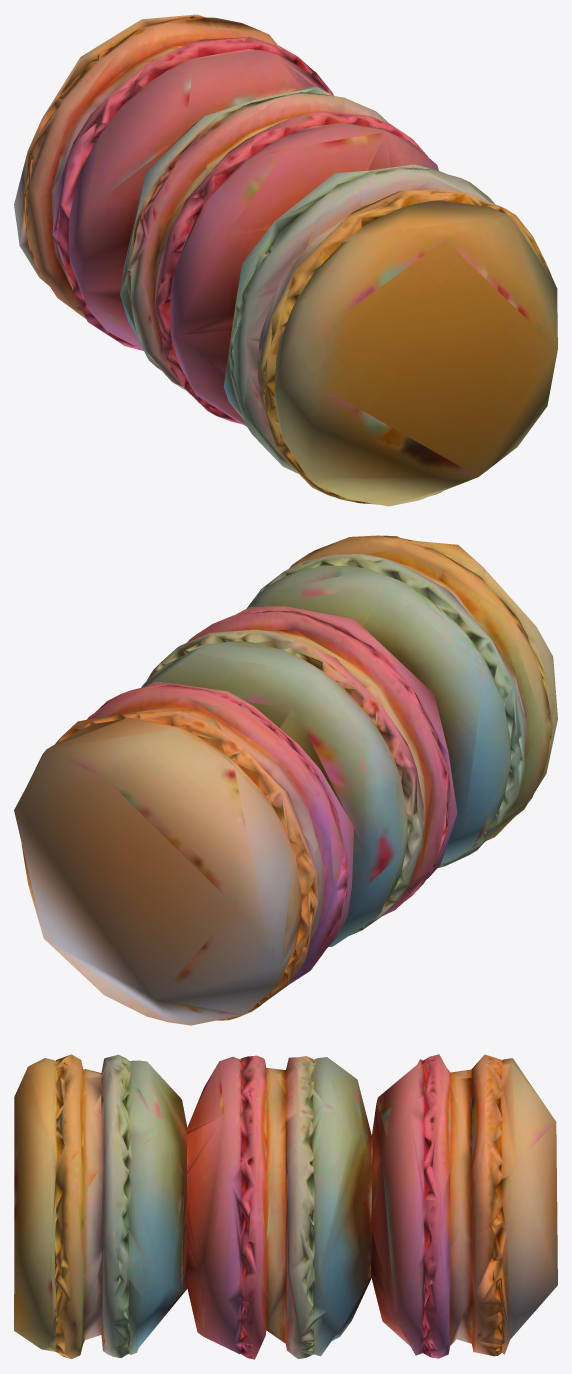
3 renders of one model, top to bottom at view 1: azimuth 30°, elevation 25°; view 2: azimuth 150°, elevation 25°; view 3: azimuth 270°, elevation 25°, orthographic. The views are drawn at different scales.
Parts seen in each view (by area): view 1: material; view 2: material; view 3: material.
Part boxes in pixels (x1,y1,x2,y2): material: (14, 14, 557, 506); material: (14, 535, 557, 1025); material: (14, 1054, 557, 1359).
Bounding box in the file's own units: 0.5625 × 0.5634 × 1.
1 material, 1 textured.
